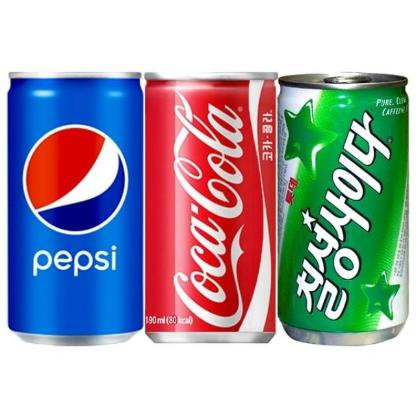Can: (8, 67, 144, 345), (144, 67, 276, 345), (278, 69, 410, 345)
